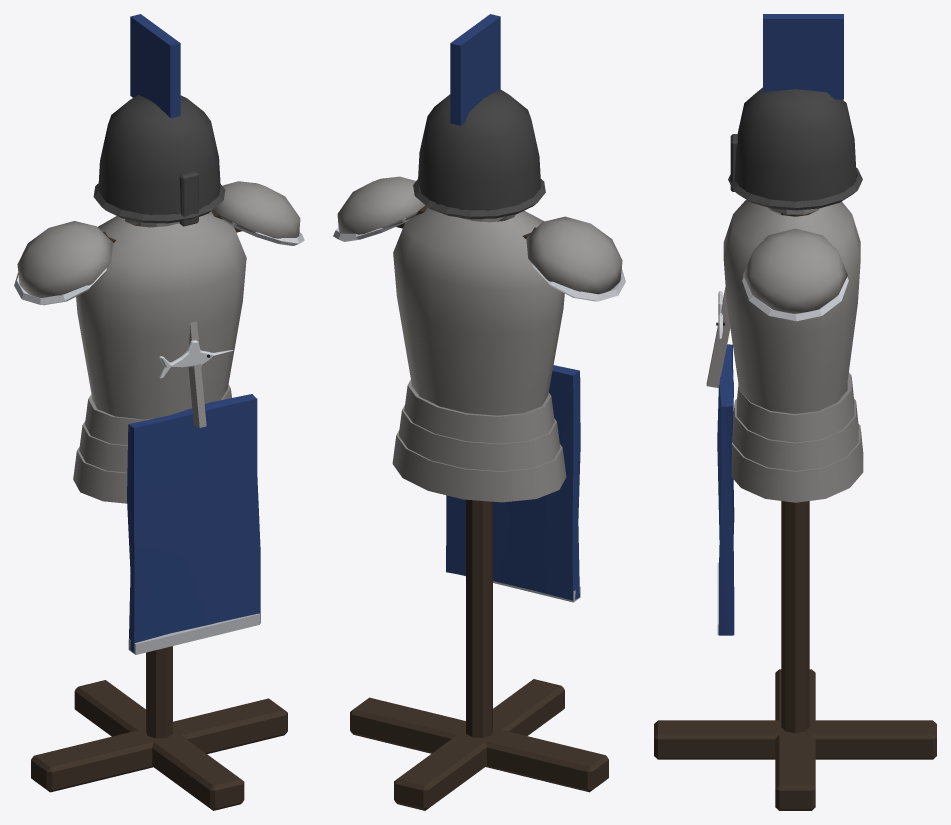
The model's file is armor_stand.glb.
3 renders of one model, left to right at view 1: azimuth 30°, elevation 25°; view 2: azimuth 150°, elevation 25°; view 3: azimuth 270°, elevation 25°, orthographic.
Visible parts, largest first — view 1: armor_stand; view 2: armor_stand; view 3: armor_stand.
Boxes of the visible parts, bbox=[...] form: armor_stand: bbox=[14, 14, 304, 810]; armor_stand: bbox=[333, 14, 625, 810]; armor_stand: bbox=[654, 14, 936, 810].
Size of what is drawn, in the model's own units: 0.7989 by 2.01 by 0.7.
